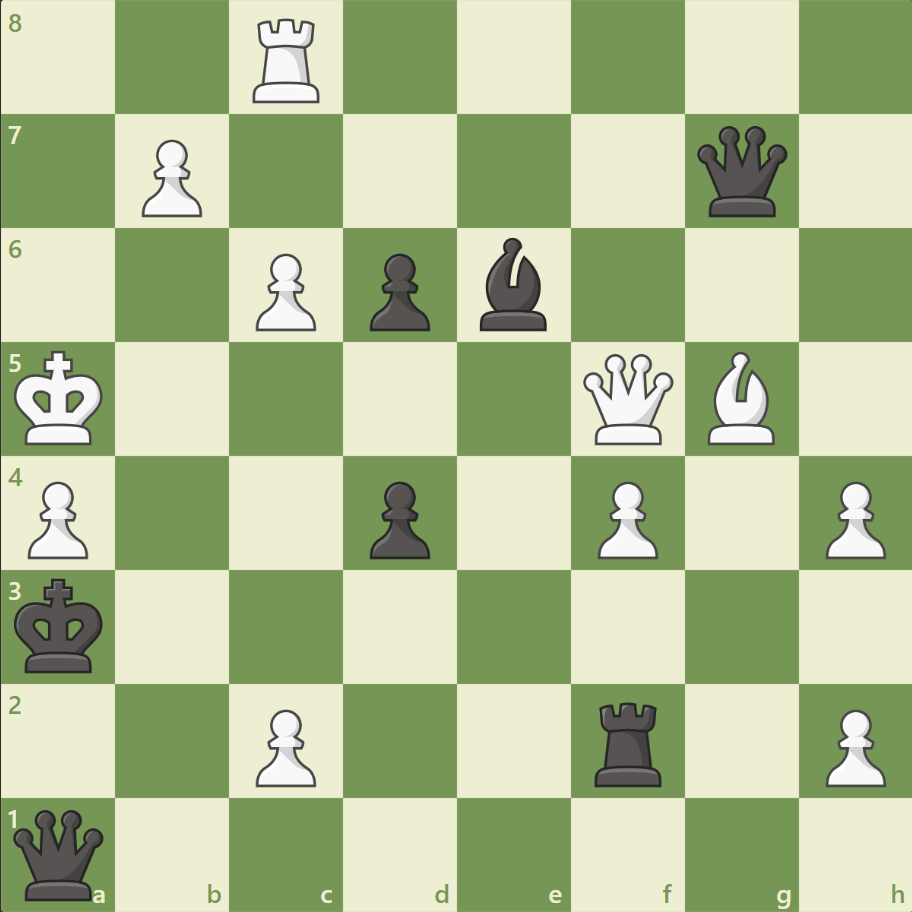B: (698, 347, 782, 449)
K: (11, 344, 111, 452)
P: (133, 132, 208, 223), (247, 246, 322, 337), (20, 473, 95, 564), (247, 700, 322, 791), (588, 473, 662, 564), (815, 473, 889, 564), (815, 700, 889, 791)
Q: (578, 349, 677, 449)
R: (246, 12, 329, 109)
b: (471, 233, 555, 336)
k: (11, 571, 111, 679)
p: (361, 246, 435, 337), (361, 473, 435, 564)
q: (691, 122, 790, 222), (10, 804, 109, 903)
r: (587, 693, 670, 790)
